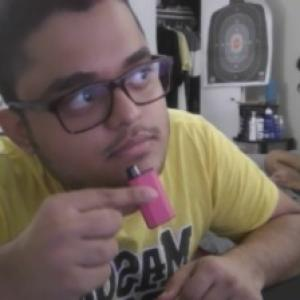Blume-E-Ciggirate: (124, 161, 178, 230)
